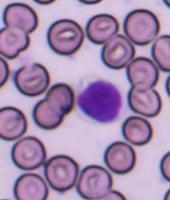L: (75, 77, 124, 123)
